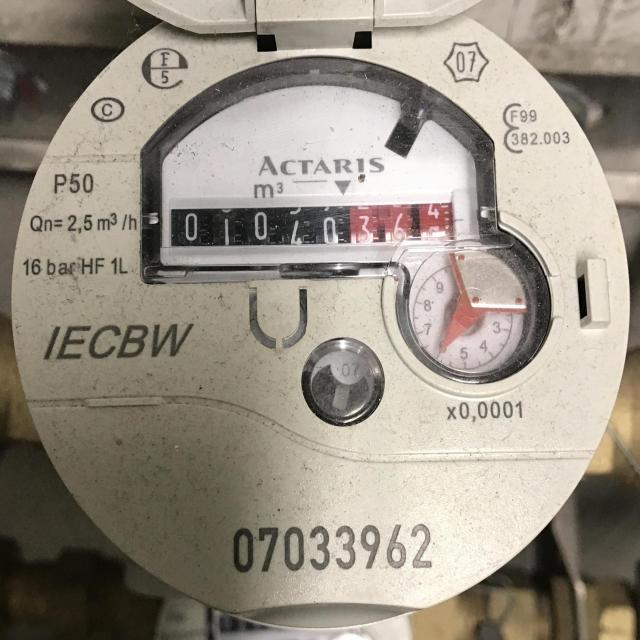gaz_meter: (12, 11, 631, 626)
indication: (167, 202, 453, 247)
